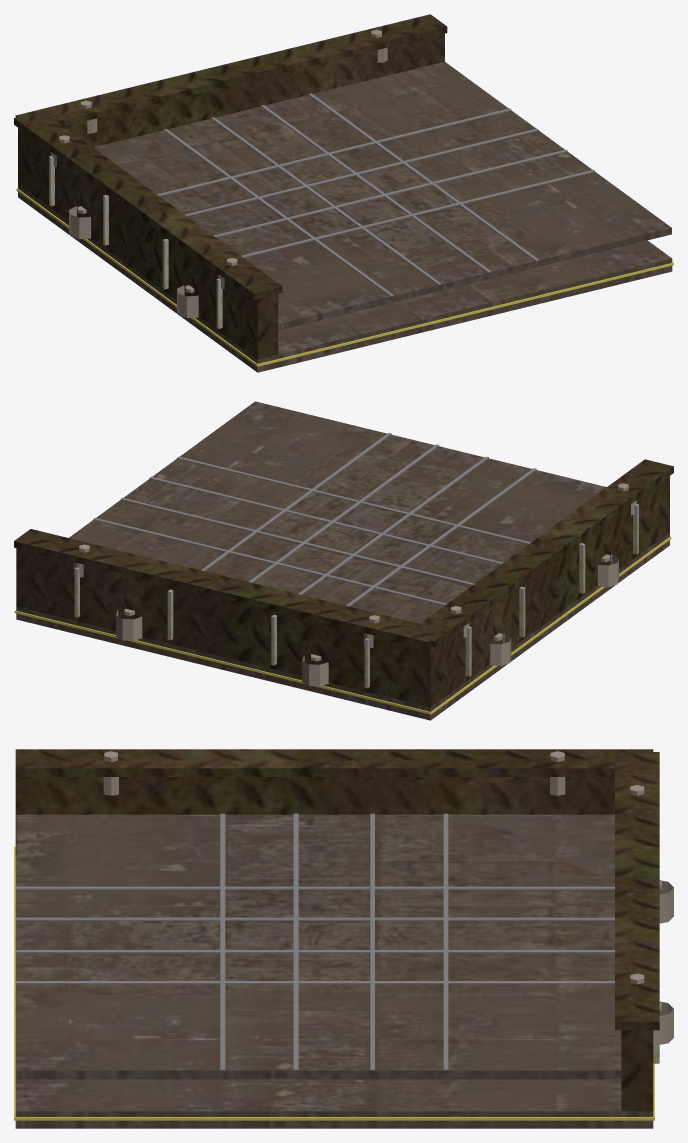
Rendered from conveyor_turn.glb.
3 views of the same model, one above another, from view 1: azimuth 30°, elevation 25°; view 2: azimuth 150°, elevation 25°; view 3: azimuth 270°, elevation 25° (orthographic). The views are drawn at different scales.
Visible parts, largest first — view 1: BeltSurface, BasePlate, Wall_left, Wall_front, WallCap_front, WallCap_left, HazardStripe, BeltGroove_x3, BeltGroove_x0, BeltGroove_x1, BeltGroove_x2, BeltGroove_y3 (+5 smaller); view 2: BeltSurface, Wall_front, Wall_left, WallCap_front, WallCap_left, BasePlate, HazardStripe, BeltGroove_x3, BeltGroove_x1, BeltGroove_x2, BeltGroove_x0, BeltGroove_y0 (+7 smaller); view 3: BeltSurface, BasePlate, Wall_left, WallCap_left, WallCap_front, HazardStripe, Wall_front, BeltGroove_y1, BeltGroove_y3, BeltGroove_y2, BeltGroove_y0, BeltGroove_x0 (+5 smaller).
Boxes of the visible parts, x1=… form: BeltSurface: x1=93, y1=61, x2=671, y2=330; BasePlate: x1=18, y1=184, x2=672, y2=372; Wall_left: x1=18, y1=136, x2=278, y2=359; Wall_front: x1=18, y1=33, x2=444, y2=192; WallCap_front: x1=15, y1=14, x2=447, y2=127; WallCap_left: x1=14, y1=111, x2=282, y2=299; HazardStripe: x1=16, y1=188, x2=673, y2=366; BeltGroove_x3: x1=157, y1=108, x2=511, y2=196; BeltGroove_x0: x1=241, y1=169, x2=595, y2=257; BeltGroove_x1: x1=213, y1=149, x2=567, y2=237; BeltGroove_x2: x1=184, y1=128, x2=538, y2=216; BeltGroove_y3: x1=308, y1=93, x2=538, y2=261; BeltSurface: x1=69, y1=401, x2=606, y2=623; Wall_front: x1=16, y1=548, x2=442, y2=707; Wall_left: x1=410, y1=476, x2=669, y2=706; WallCap_front: x1=14, y1=529, x2=444, y2=648; WallCap_left: x1=406, y1=459, x2=673, y2=647; BasePlate: x1=16, y1=532, x2=669, y2=720; HazardStripe: x1=14, y1=536, x2=671, y2=714; BeltGroove_x3: x1=93, y1=518, x2=447, y2=605; BeltGroove_x1: x1=149, y1=476, x2=503, y2=564; BeltGroove_x2: x1=120, y1=497, x2=474, y2=585; BeltGroove_x0: x1=177, y1=456, x2=530, y2=544; BeltGroove_y0: x1=346, y1=468, x2=536, y2=606; BeltSurface: x1=16, y1=814, x2=621, y2=1079; BasePlate: x1=15, y1=855, x2=653, y2=1128; Wall_left: x1=15, y1=777, x2=614, y2=854; WallCap_left: x1=15, y1=749, x2=653, y2=776; WallCap_front: x1=615, y1=752, x2=659, y2=1030; HazardStripe: x1=14, y1=846, x2=654, y2=1120; Wall_front: x1=621, y1=1030, x2=653, y2=1111; BeltGroove_y1: x1=15, y1=917, x2=614, y2=920; BeltGroove_y3: x1=15, y1=981, x2=614, y2=984; BeltGroove_y2: x1=15, y1=950, x2=614, y2=953; BeltGroove_y0: x1=15, y1=886, x2=614, y2=889; BeltGroove_x0: x1=220, y1=813, x2=225, y2=1070.
Size of the model in its own units: 1.03 by 0.1925 by 1.03.
19 materials, 16 textured.
